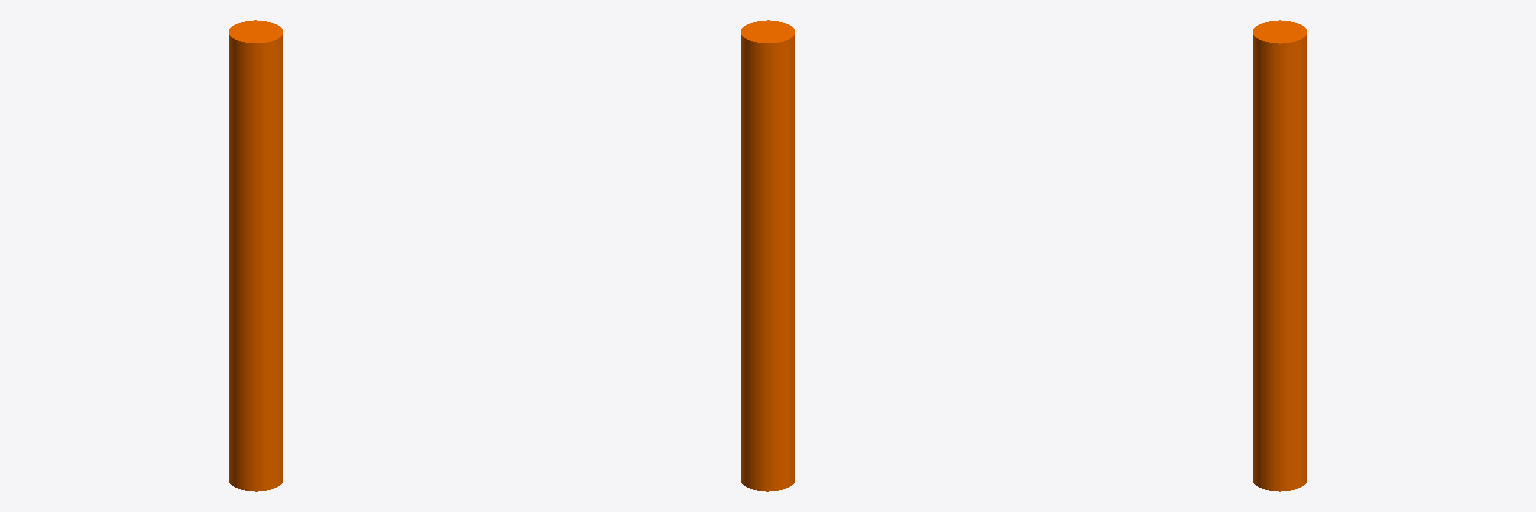
robot.urdf — cube.urdf:
<?xml version="1.0" ?>
<robot name="cube.urdf">
    <link name="legobrick">
        <contact>
            <lateral_friction value="1.0"/>
            <rolling_friction value="0.0"/>
            <contact_cfm value="0.0"/>
            <contact_erp value="1.0"/>
        </contact>
        <inertial>
            <origin rpy="0 0 0" xyz="0.0 0.0 0.0"/>
            <mass value="0.1"/>
            <inertia ixx="1" ixy="0" ixz="0" iyy="1" iyz="0" izz="1"/>
        </inertial>
        <visual>
            <origin rpy="1.570796 0 0" xyz="-0.001152925257731959 0.014222730670103094 -0.006989078608247398"/>
            <geometry>
                <mesh filename="Bridge_Peg.obj" scale="0.001 0.001 0.001"/>
            </geometry>
            <material name="yellow">
                <color rgba="1 0.4667 0 1"/>
            </material>
        </visual>
        <collision>
            <origin rpy="1.570796 0 0" xyz="-0.001152925257731959 0.014222730670103094 -0.006989078608247398"/>
            <geometry>
                <mesh filename="Bridge_Peg.obj" scale="0.001 0.001 0.001"/>
            </geometry>
        </collision>
    </link>
</robot>

--- Facts derived from the render (not from the file) ---
3 views of the same robot in one strip: view 1: azimuth 30°, elevation 25°; view 2: azimuth 150°, elevation 25°; view 3: azimuth 270°, elevation 25° (orthographic).
Robot: cube.urdf — 1 links, 0 joints (none); root link legobrick; default pose: all joints at 0.
Links seen in each view (by area): view 1: legobrick; view 2: legobrick; view 3: legobrick.
Link boxes in pixels (box(x1,y1,x2,y2)): legobrick: box(229, 20, 282, 491); legobrick: box(741, 20, 794, 491); legobrick: box(1253, 20, 1306, 491).
Bounding box of the posed robot: 0.014 × 0.014 × 0.127 m (x, y, z).
1 mesh visuals loaded from 1 distinct referenced files (1 OBJ).